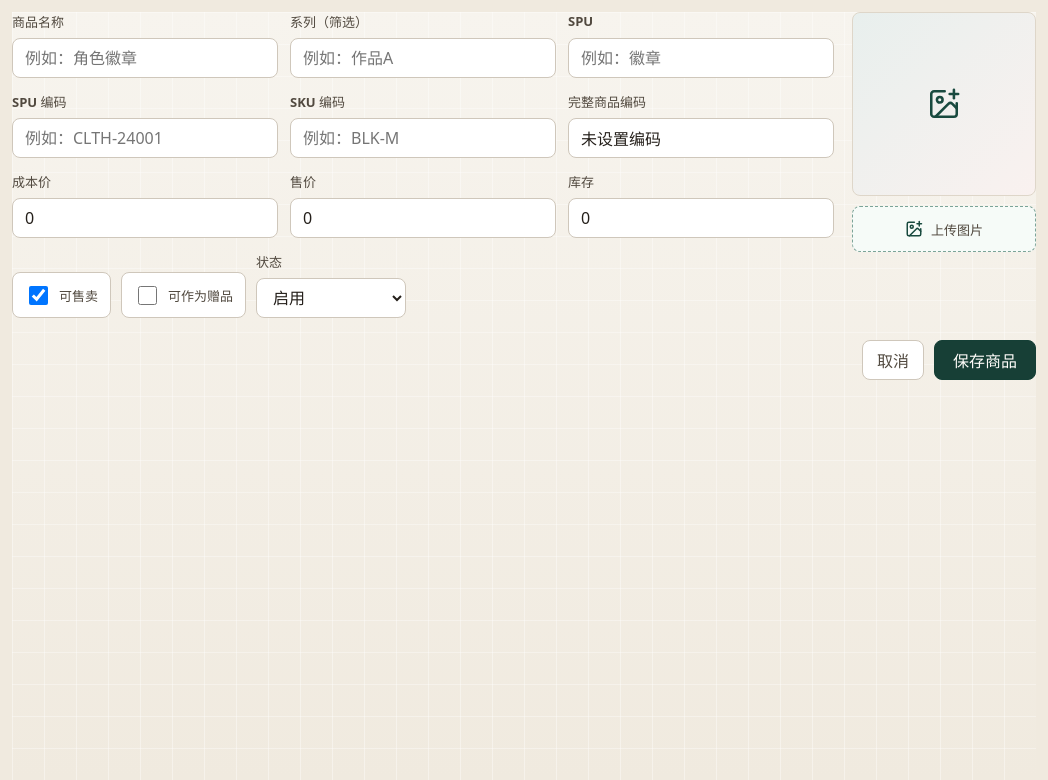
Test: shows generated product code preview
The image size is (1048, 780).
Expected: the field labelled "完整商品编码" holds "未设置编码", left=568, top=118, right=834, bottom=158
Type "CLTH-24001" into the field labelled "SPU 编码".
click(145, 138); type("CLTH-24001")  # box left=12, top=118, right=278, bottom=158
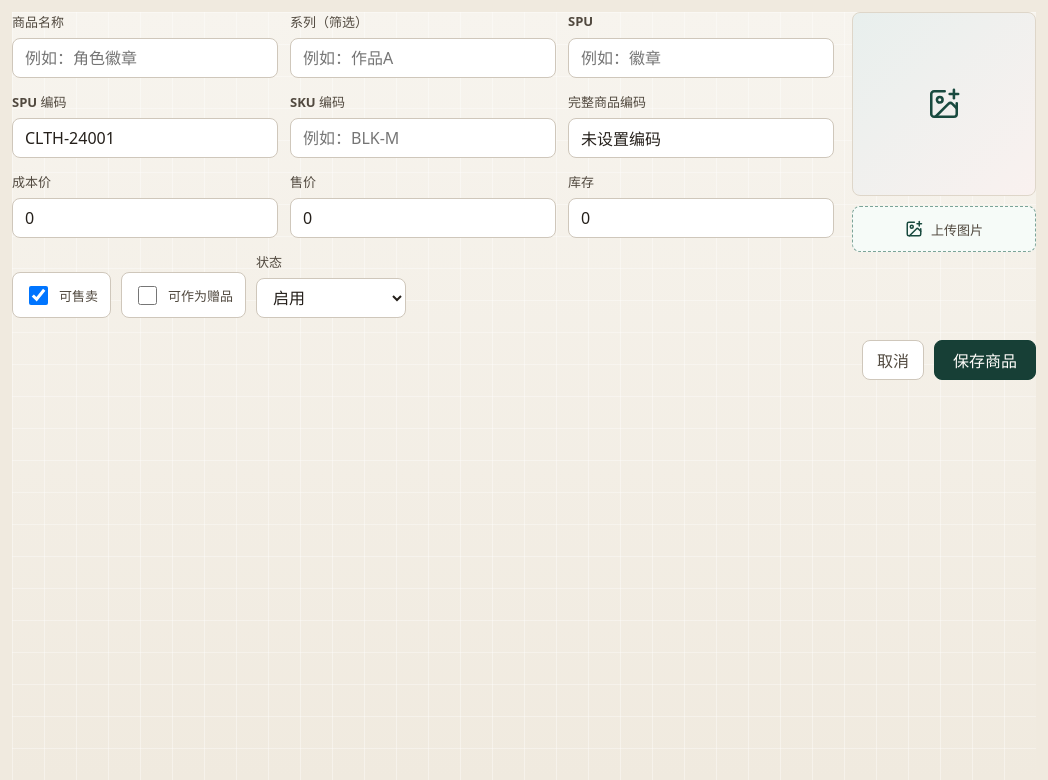
Type "BLK-M" into the field labelled "SKU 编码".
click(423, 138); type("BLK-M")  # box left=290, top=118, right=556, bottom=158
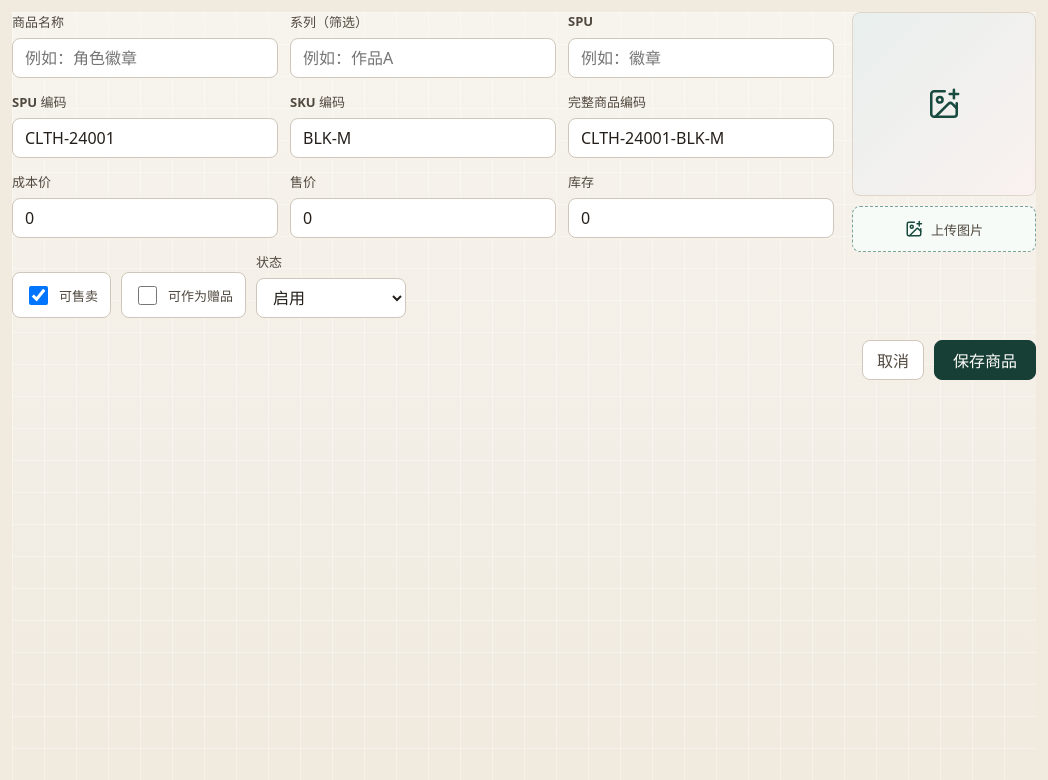
Expected: the field labelled "完整商品编码" holds "CLTH-24001-BLK-M", left=568, top=118, right=834, bottom=158
